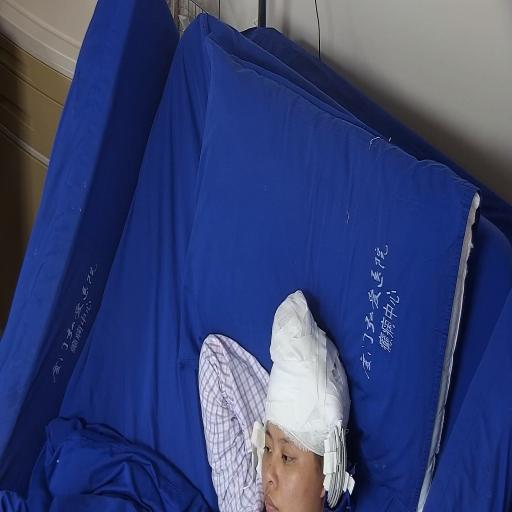Netural: (251, 385, 335, 512)
